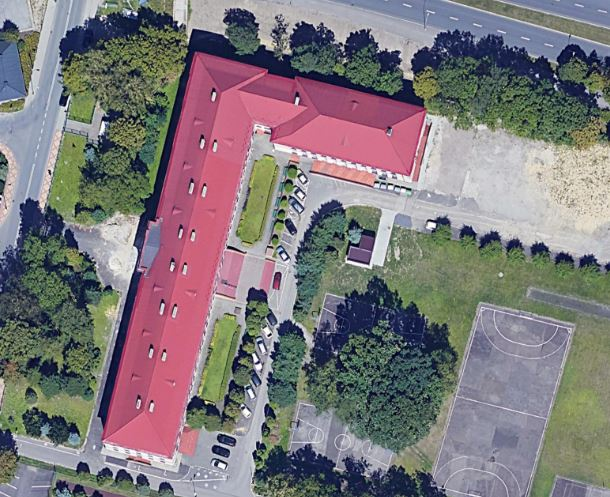block of flats: (95, 45, 443, 474)
